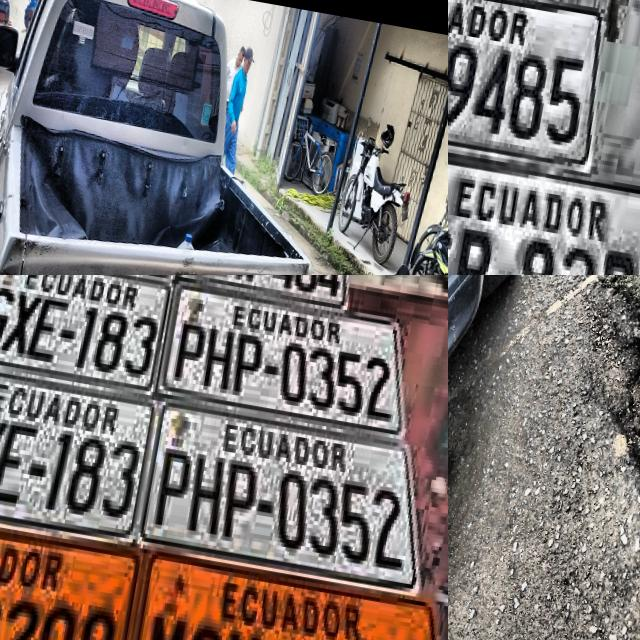license_plate: (448, 0, 624, 176), (448, 146, 640, 275), (0, 518, 145, 640)
